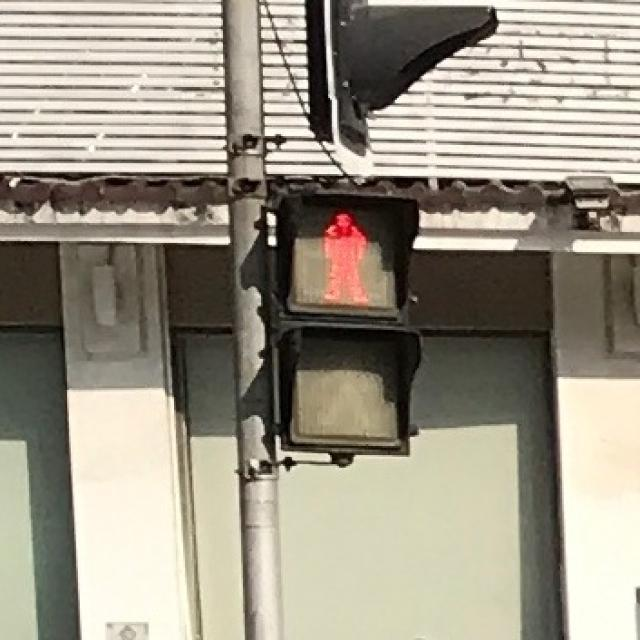red-crossing: (292, 194, 399, 312)
